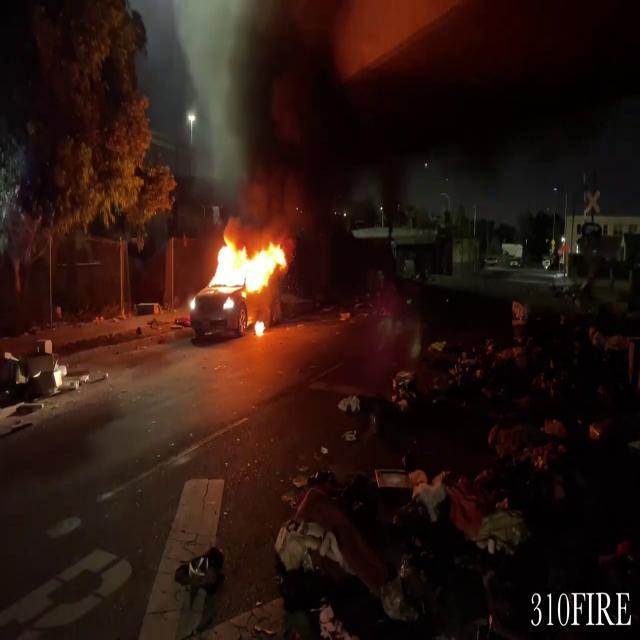Fire: (199, 231, 289, 318)
Smoke: (208, 0, 637, 221)
